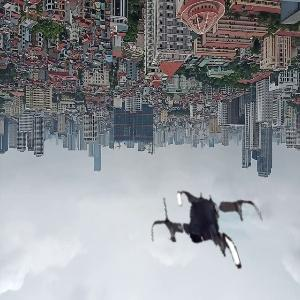drone: (148, 175, 269, 296)
